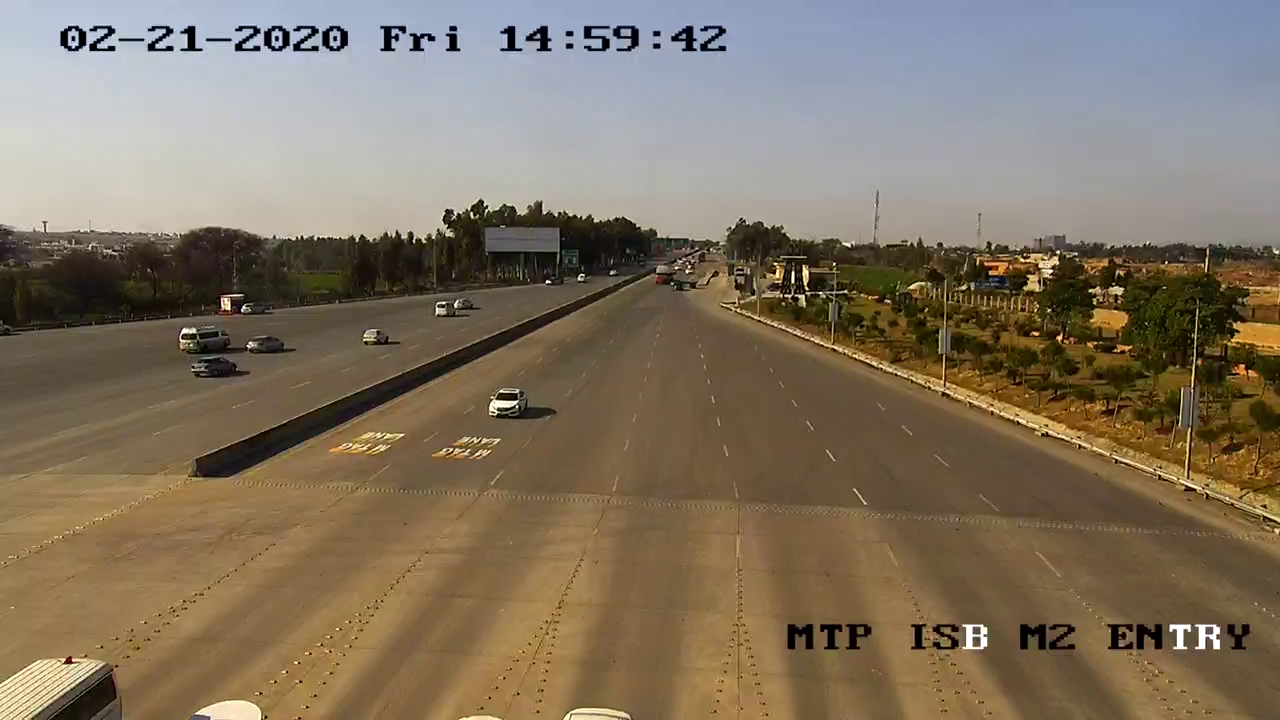f1: (482, 384, 527, 422)
